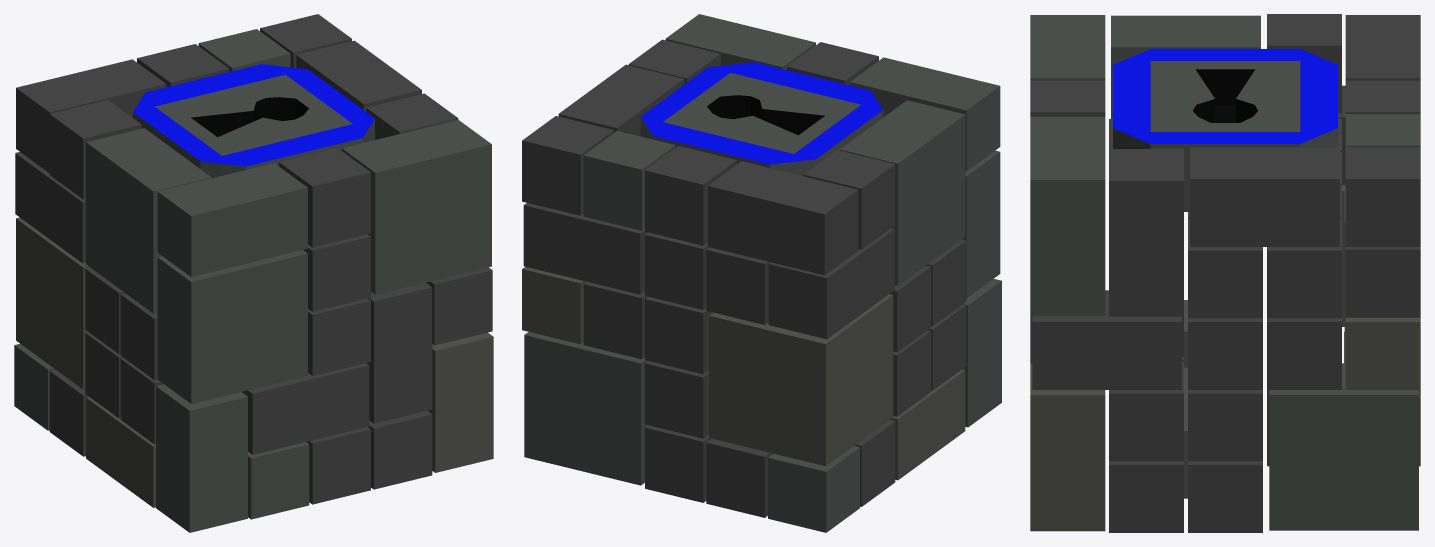
Rendered from KeyholeBlock 1.fbx.
3 renders of one model, left to right at view 1: azimuth 30°, elevation 25°; view 2: azimuth 150°, elevation 25°; view 3: azimuth 270°, elevation 25°, orthographic. The views are drawn at different scales.
Parts seen in each view (by area): view 1: KeyholeTile; view 2: KeyholeTile; view 3: KeyholeTile.
Boxes of the visible parts, <box> form: KeyholeTile: <box>14,14,493,532</box>; KeyholeTile: <box>522,14,1001,532</box>; KeyholeTile: <box>1030,14,1420,532</box>.
Bounding box in the file's own units: 990 × 990 × 990.
